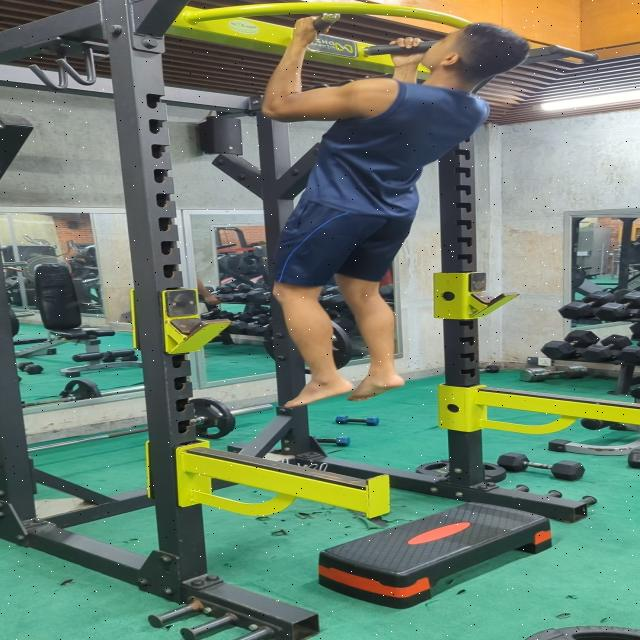Normal_PullUps: (233, 9, 537, 410)
